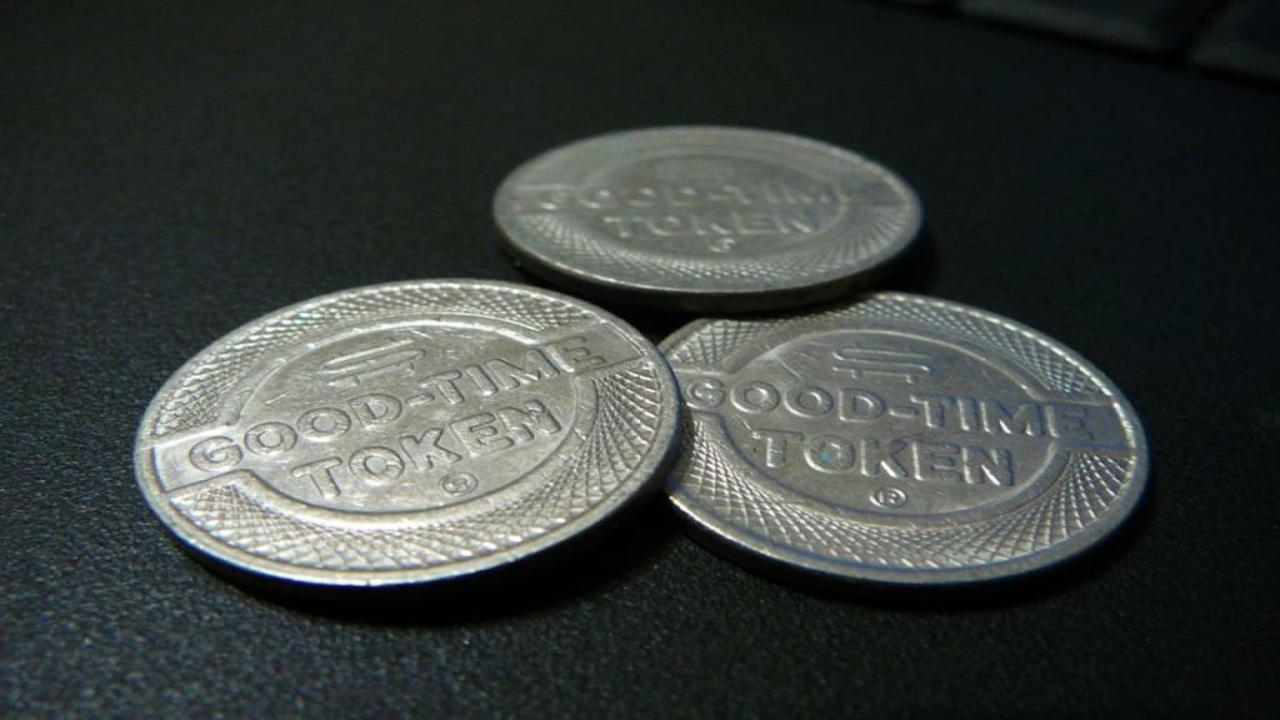coin: (128, 278, 684, 588), (649, 292, 1150, 588), (492, 123, 925, 313)
